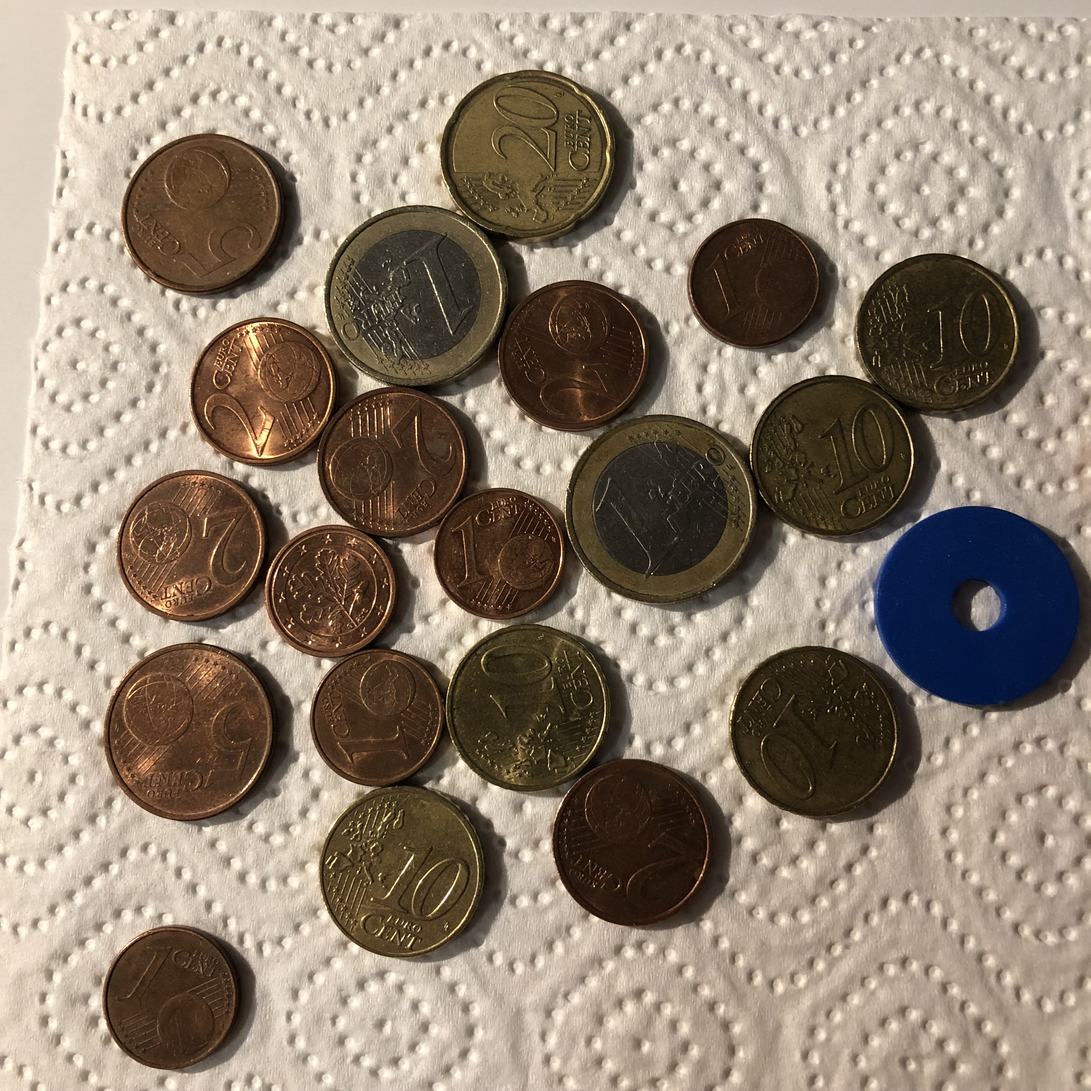1 cent: (100, 921, 242, 1072), (263, 519, 397, 658), (434, 483, 568, 622), (311, 649, 445, 787), (688, 211, 821, 350)
1 euro: (563, 414, 760, 609), (322, 204, 509, 390)
10 cent: (315, 785, 488, 963), (851, 247, 1024, 418), (445, 623, 614, 793), (750, 373, 918, 544), (730, 645, 898, 815)
2 cent: (550, 756, 715, 929), (111, 469, 272, 623), (187, 315, 340, 469), (317, 385, 470, 539), (497, 277, 650, 431)
20 cent: (439, 66, 615, 244)
5 cent: (104, 644, 275, 823), (121, 132, 285, 298)
